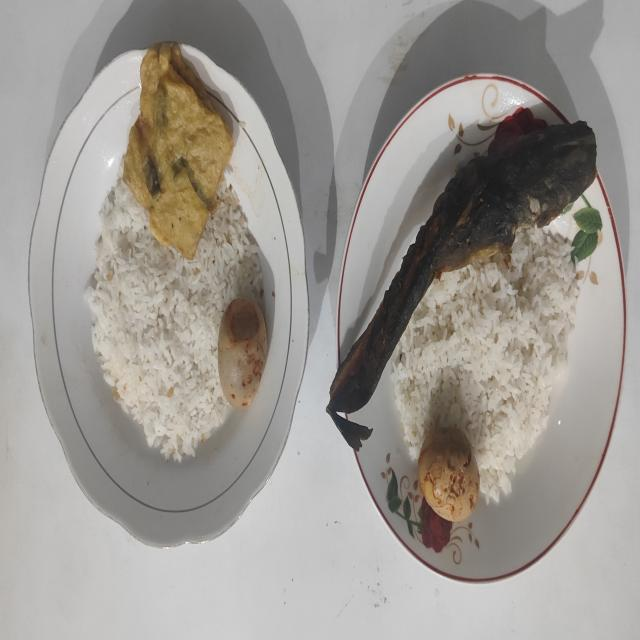nasi_putih: (391, 230, 580, 500), (89, 180, 264, 460)
